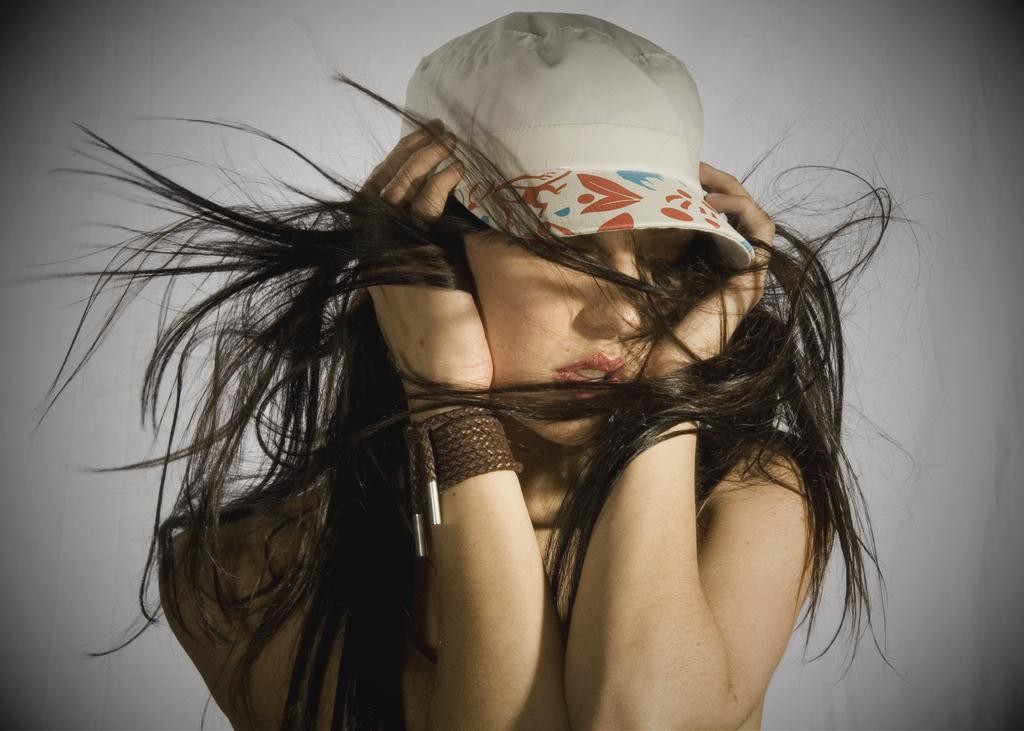Hat: (398, 10, 755, 268)
